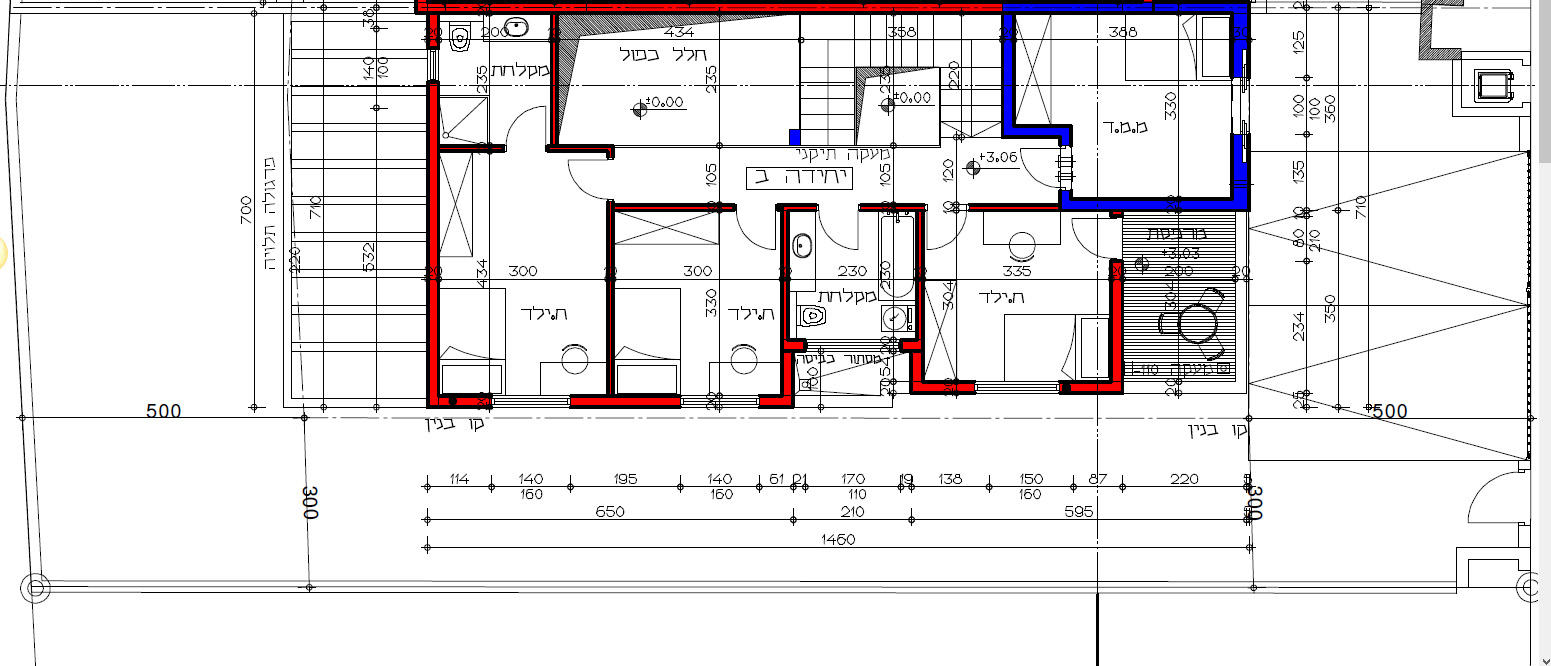door: (1064, 214, 1110, 265), (1014, 142, 1060, 193), (561, 156, 607, 207), (504, 95, 550, 146), (731, 214, 778, 256), (814, 211, 861, 253), (923, 213, 970, 255)
window: (974, 380, 1060, 398), (803, 339, 901, 354), (493, 395, 570, 410), (682, 395, 759, 410)
